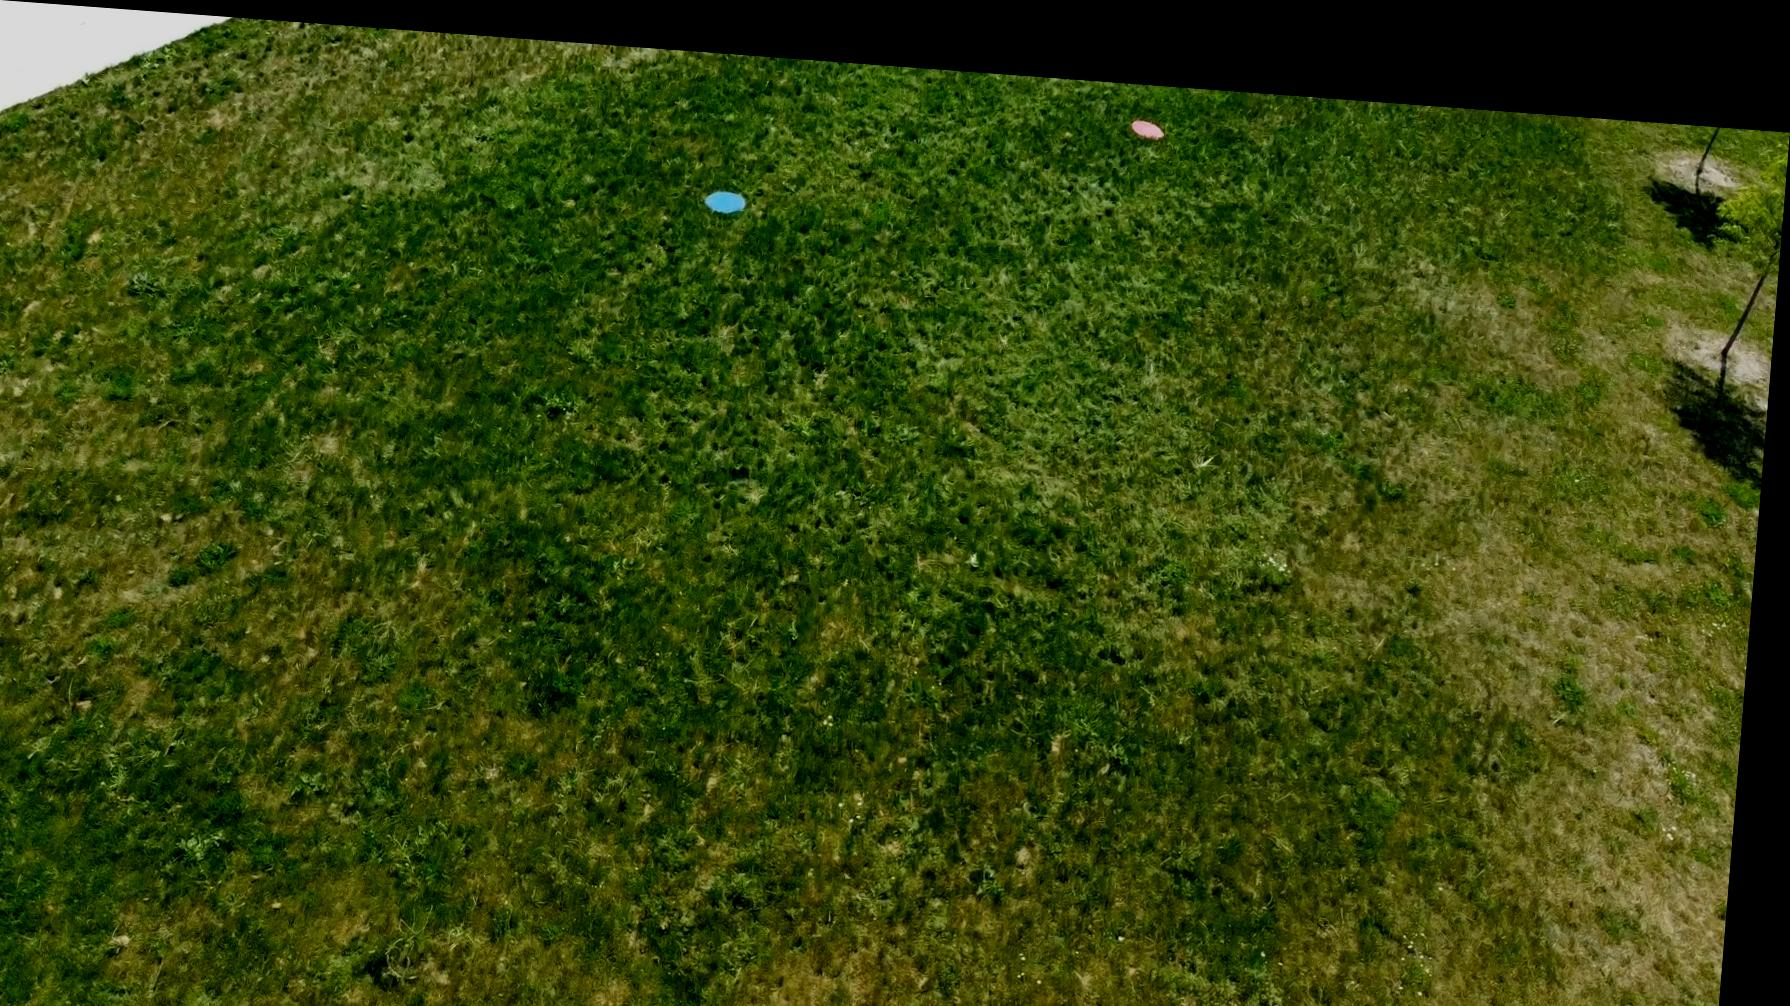Blue: (704, 175, 751, 205)
Red: (1129, 100, 1169, 124)
